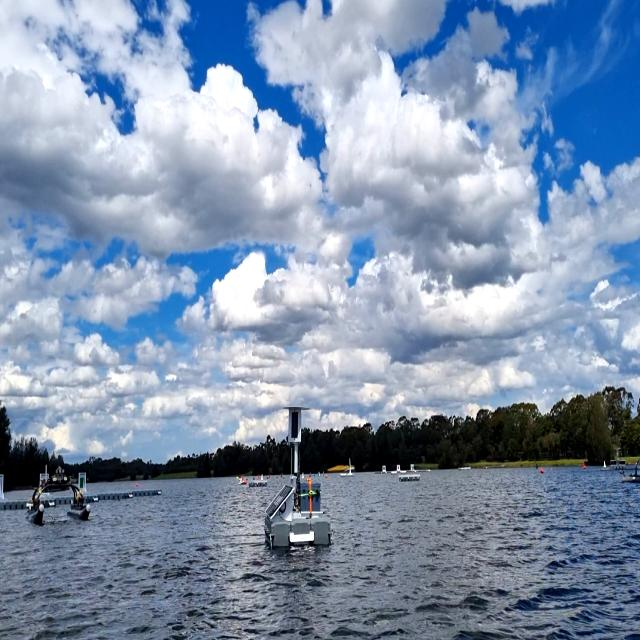led: (290, 409, 300, 439)
